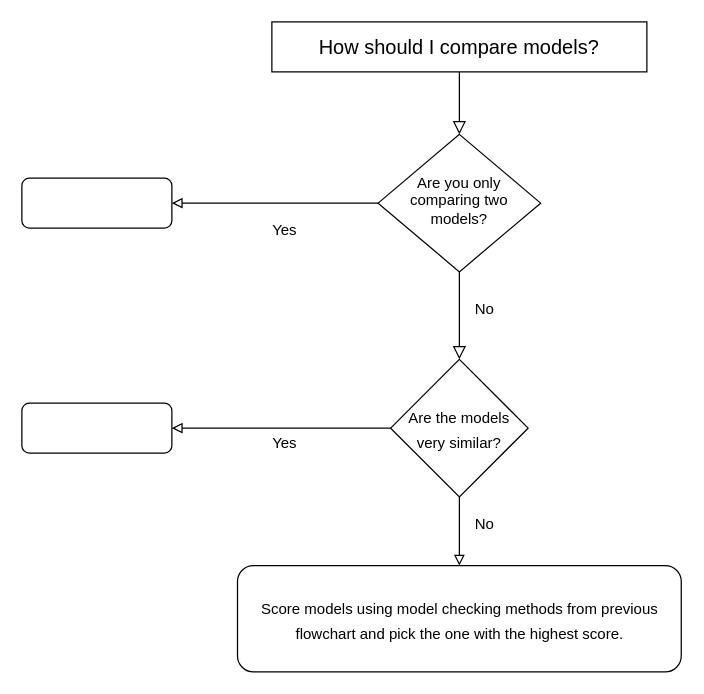
Image size: 704x694. Some labels were removed from this diagram. Each missing label, with the centre of its shape:
Bayes Factors: (96,202)
Relative MMD / KSD: (96,427)
